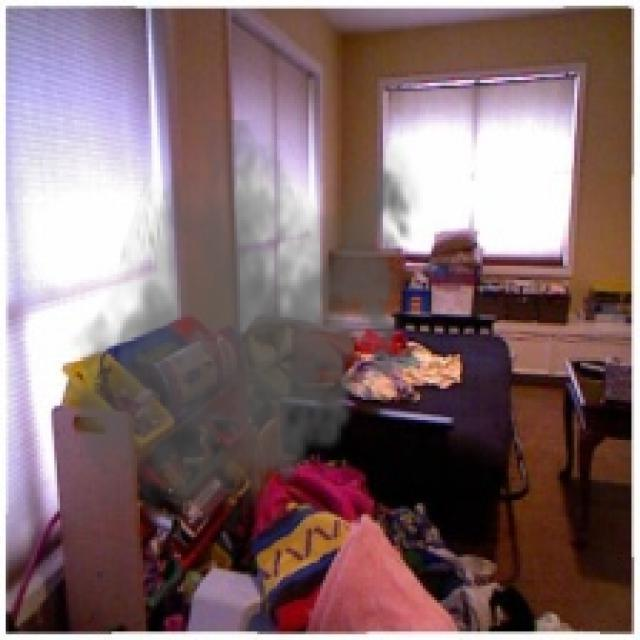Smoke: (68, 120, 423, 546)
